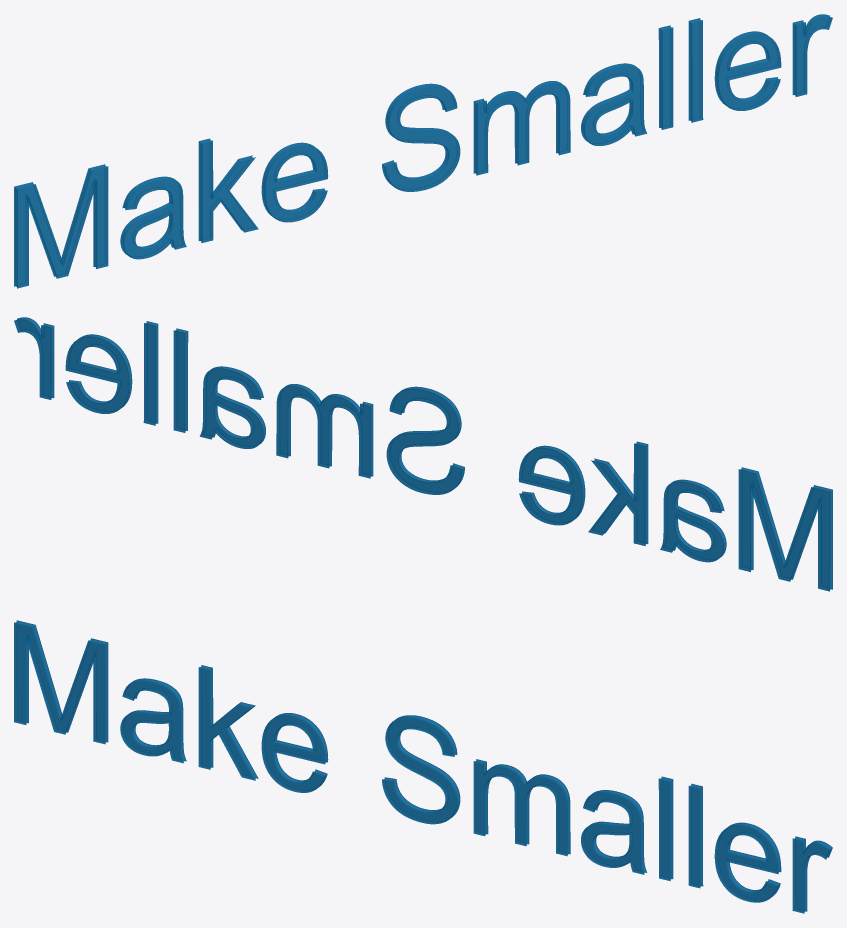
The model's file is make_smaller.FBX.
The picture shows the model from 3 angles, top to bottom: view 1: azimuth 30°, elevation 25°; view 2: azimuth 150°, elevation 25°; view 3: azimuth 330°, elevation 25°; orthographic projection.
Parts seen in each view (by area): view 1: make_smaller; view 2: make_smaller; view 3: make_smaller.
Boxes of the visible parts, bbox=[...] form: make_smaller: bbox=[14, 14, 832, 288]; make_smaller: bbox=[14, 317, 832, 591]; make_smaller: bbox=[14, 620, 832, 913].
Bounding box in the file's own units: 34.2 × 4.16 × 0.2294.
